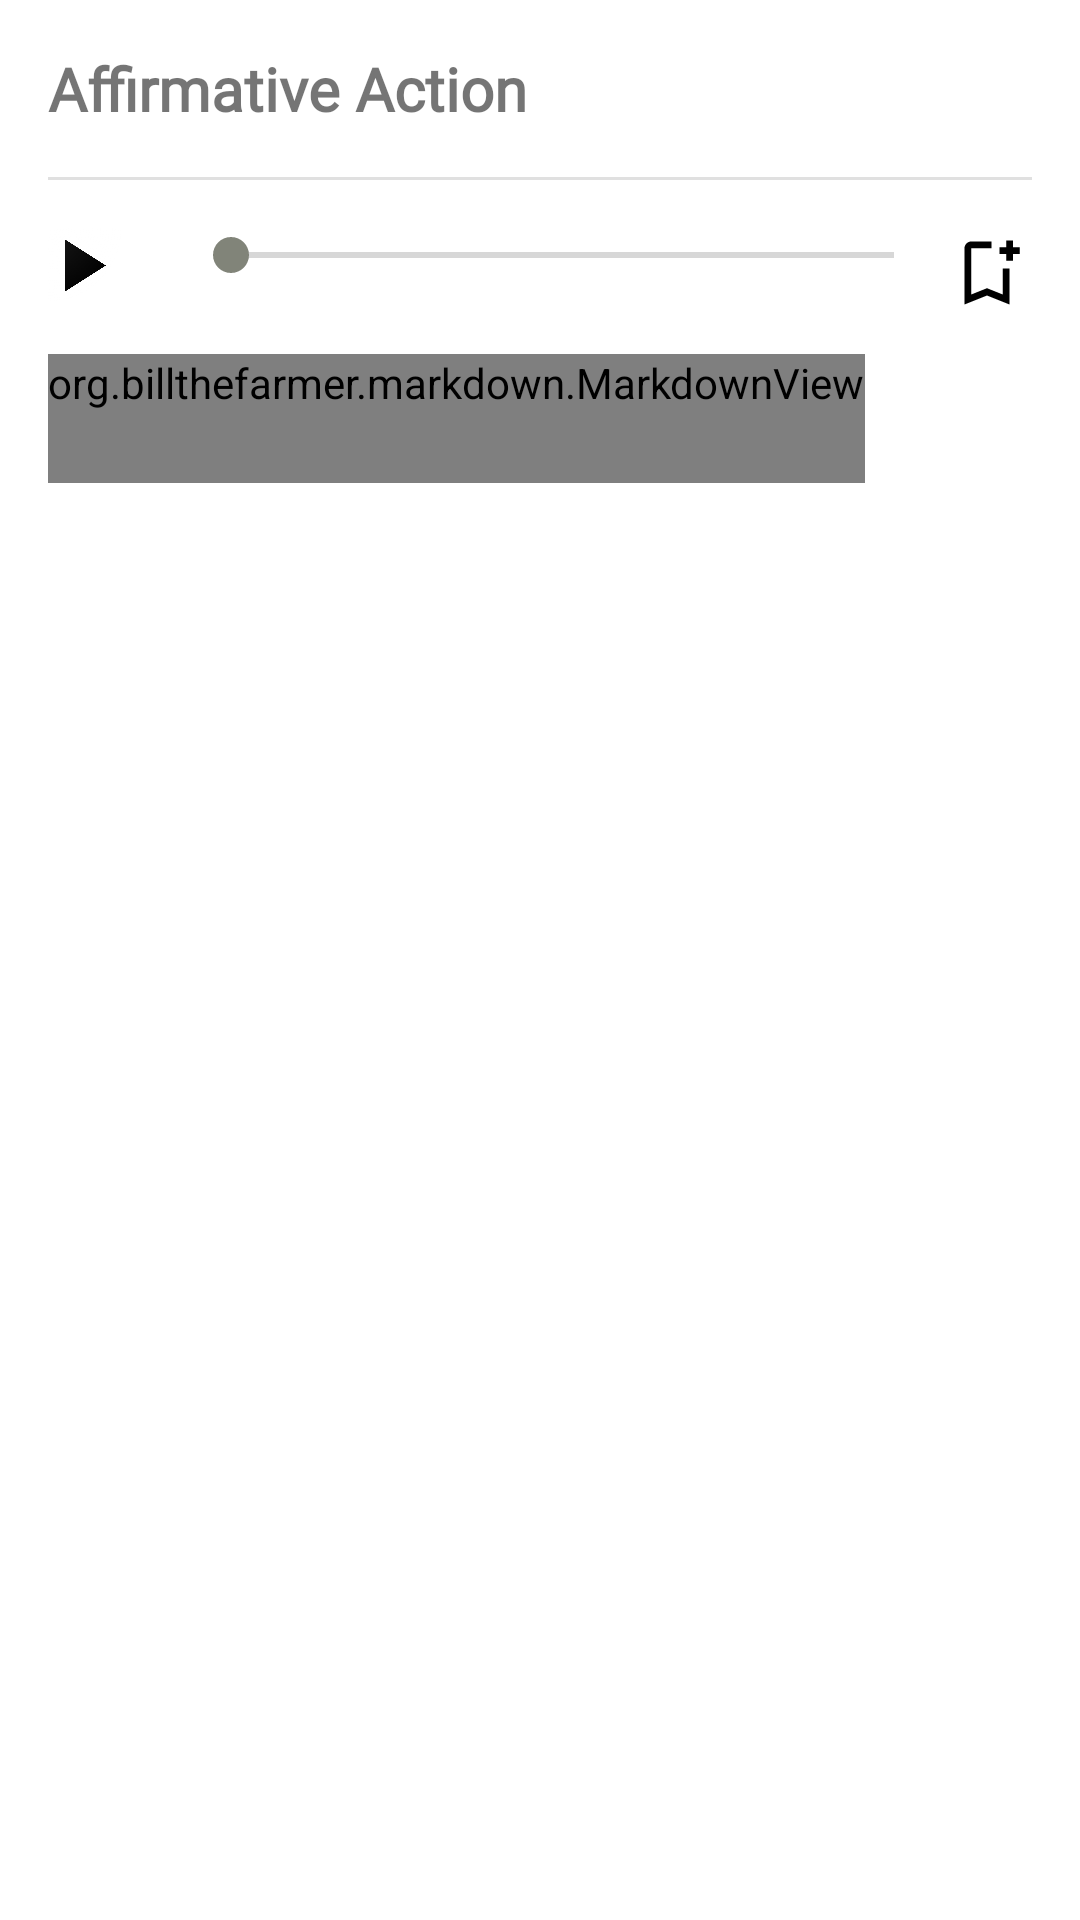

Point at icon controls on the screen. Image size 1080w x 1920h, points as (x=x, y=y).
bookmark add: (x=992, y=272)
play: (x=85, y=265)
